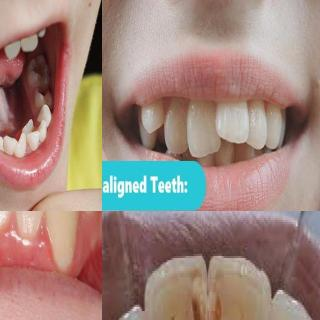cavities: (202, 275, 238, 320), (183, 263, 210, 320), (30, 62, 46, 79)
maligned: (36, 211, 86, 275), (187, 89, 226, 157), (213, 91, 252, 150), (166, 94, 194, 154), (140, 90, 166, 140), (2, 38, 20, 62), (14, 131, 28, 159), (25, 131, 41, 154), (18, 119, 36, 139)
